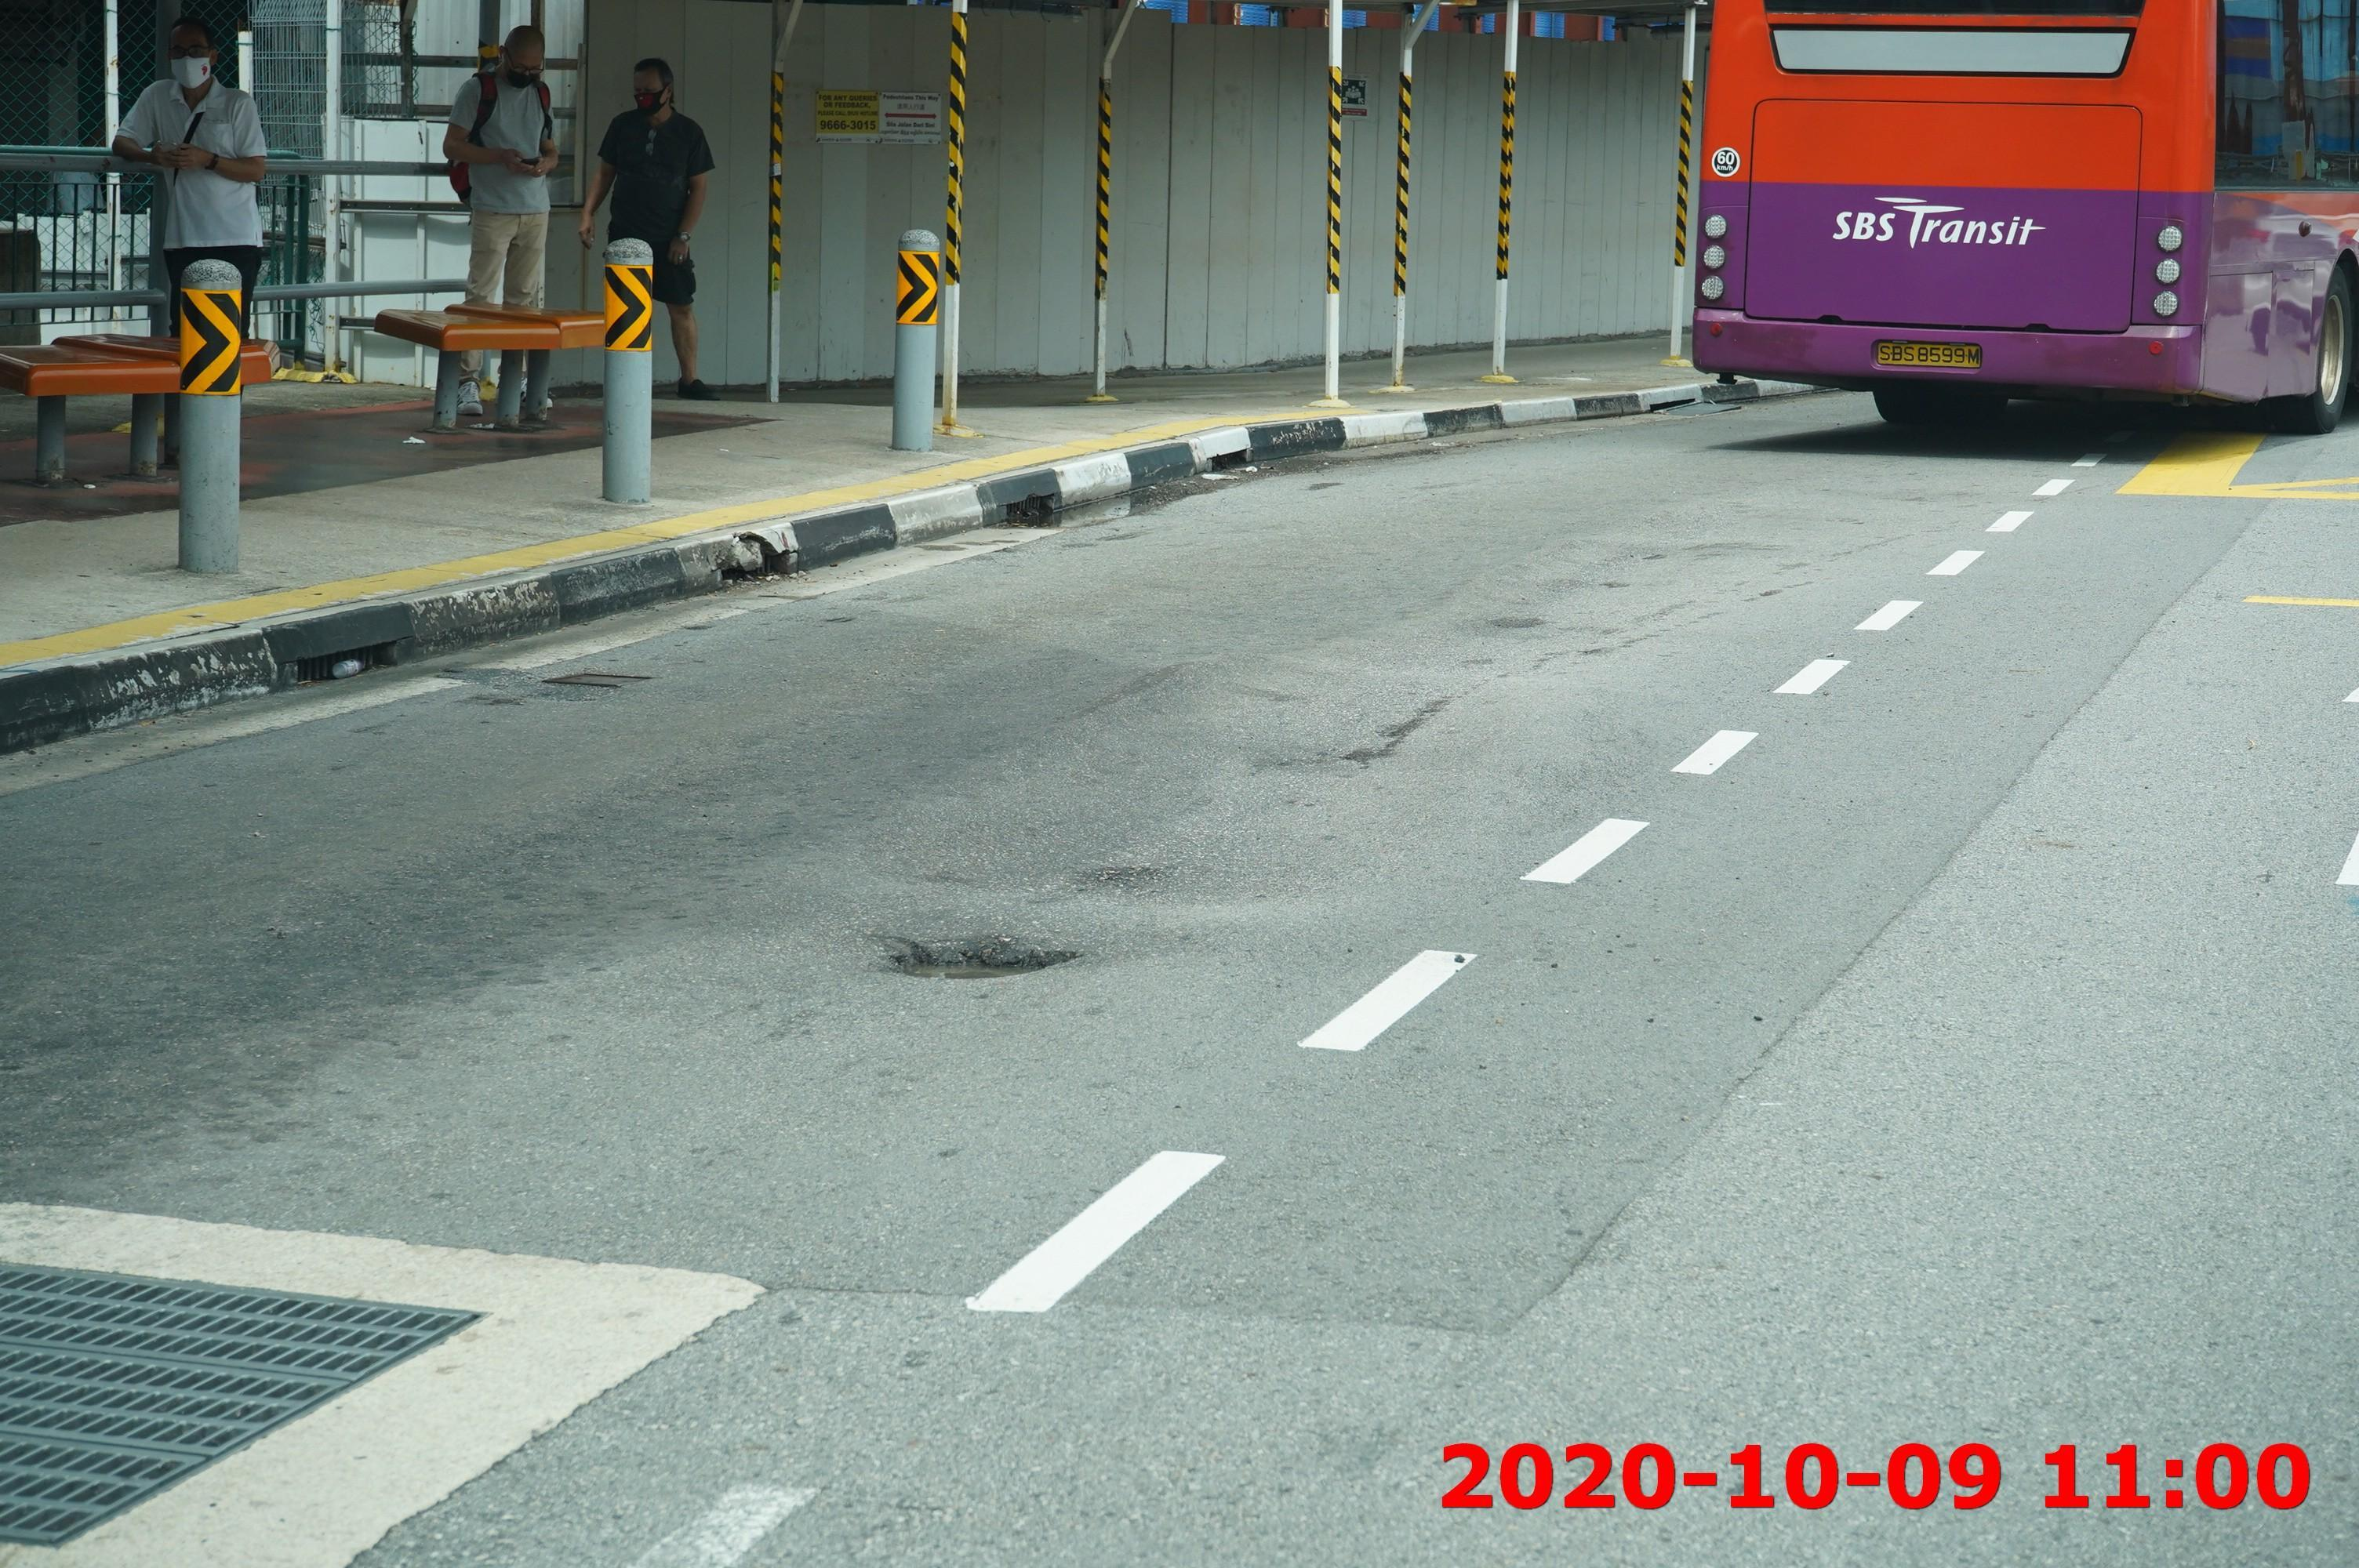localise surface defect: (861, 913, 1105, 1004)
peeling off premix: (1067, 857, 1187, 899)
